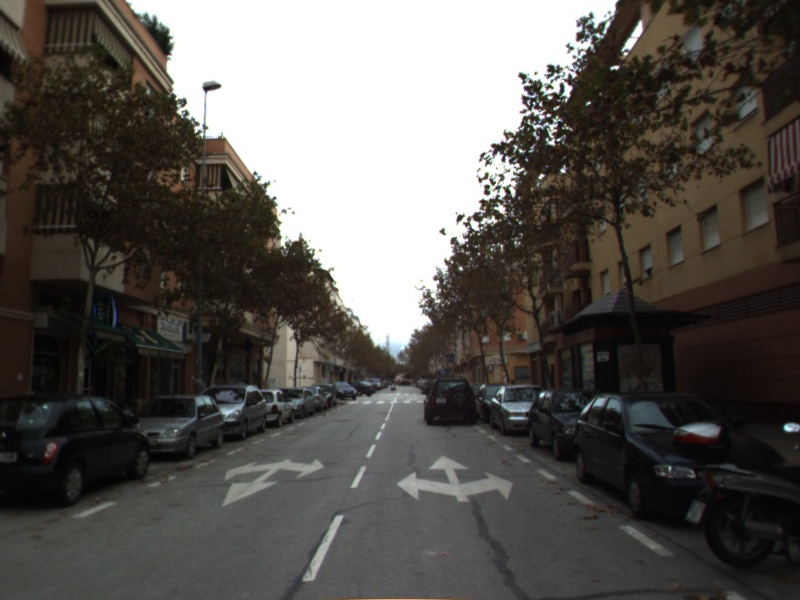STRAIGHT_LEFT_RIGHT: (394, 453, 515, 504)
